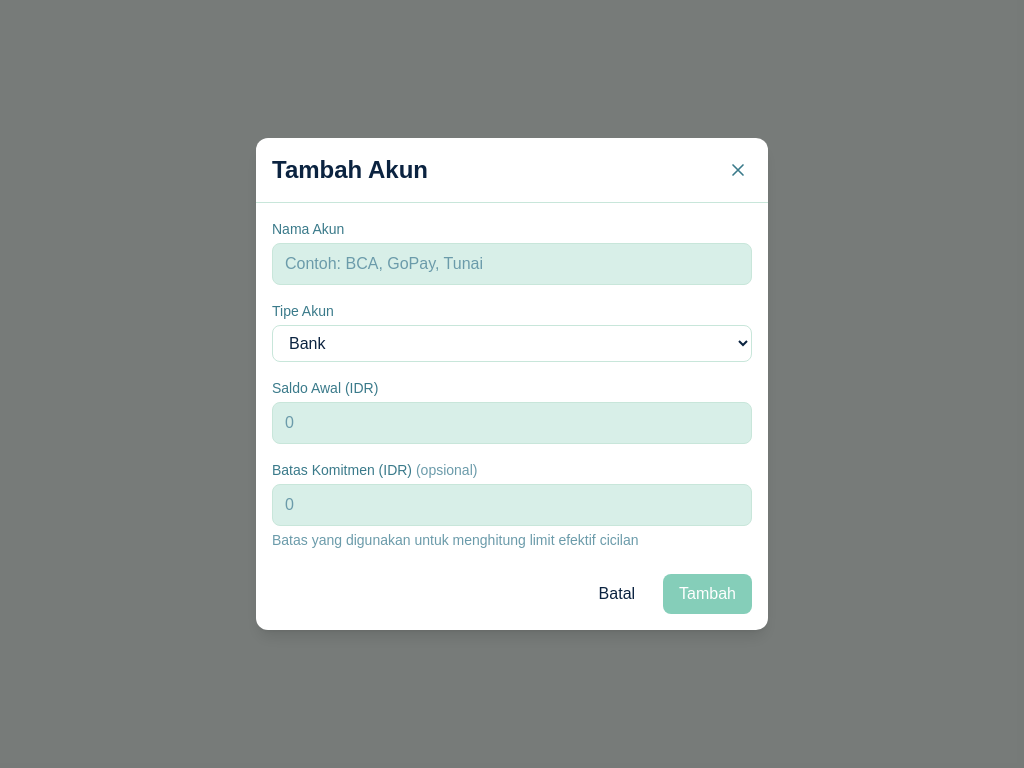
Test: AccountForm › shows target_amount field when tabungan type is selected
Select "Tabungan" in the dropdown labelled "Tipe Akun" at (512, 344), box [272, 325, 752, 362]
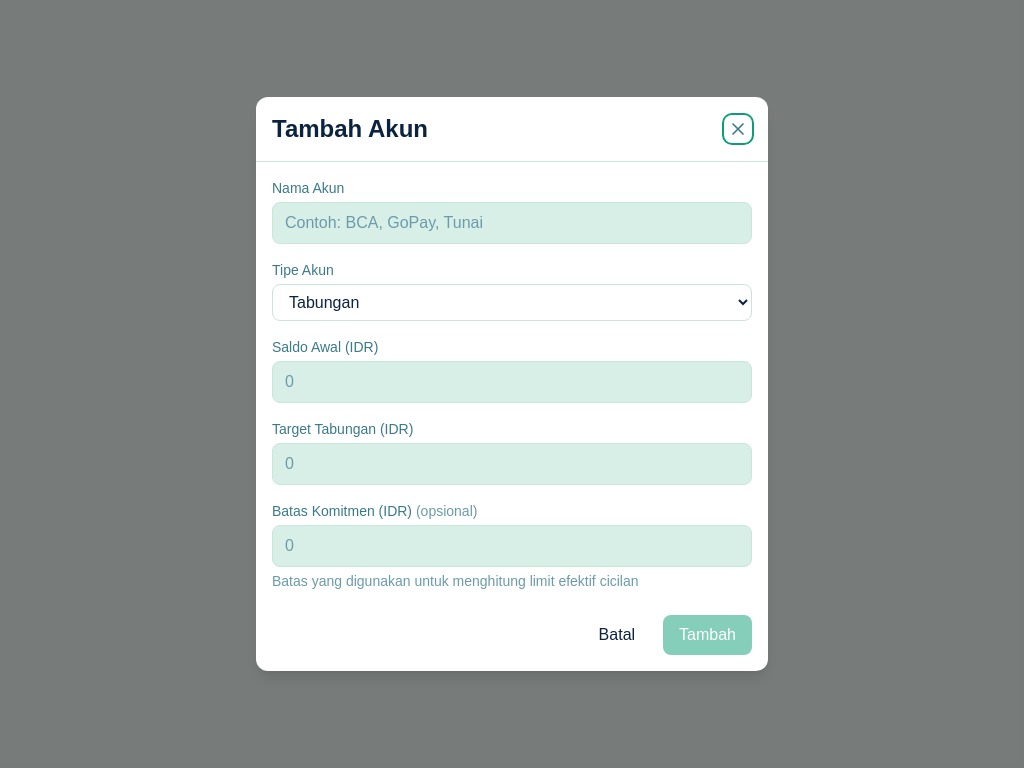
expect the number field labelled "Target Tabungan (IDR)" is shown: met, box [272, 443, 752, 485]
